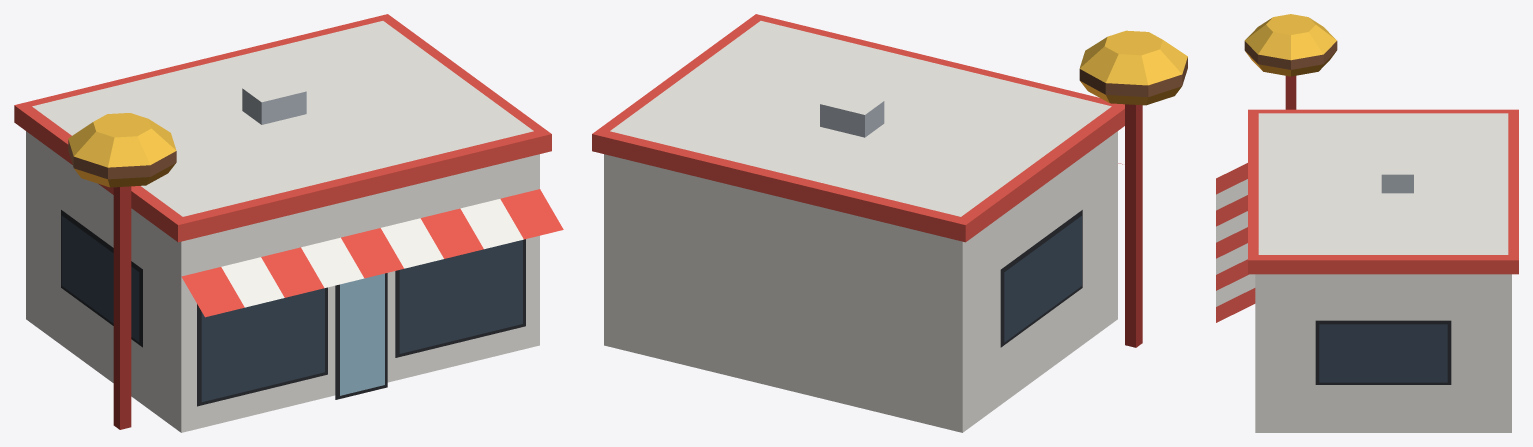
File: B_Burger.fbx
The picture shows the model from 3 angles, left to right: view 1: azimuth 30°, elevation 25°; view 2: azimuth 150°, elevation 25°; view 3: azimuth 270°, elevation 25°; orthographic projection. The views are drawn at different scales.
Parts seen in each view (by area): view 1: B_Burger; view 2: B_Burger; view 3: B_Burger.
Part boxes in pixels (x1=…): B_Burger: x1=14, y1=14, x2=563, y2=432; B_Burger: x1=592, y1=14, x2=1187, y2=432; B_Burger: x1=1216, y1=14, x2=1518, y2=432.
Bounding box in the file's own units: 6.05 × 3.9 × 4.25.
